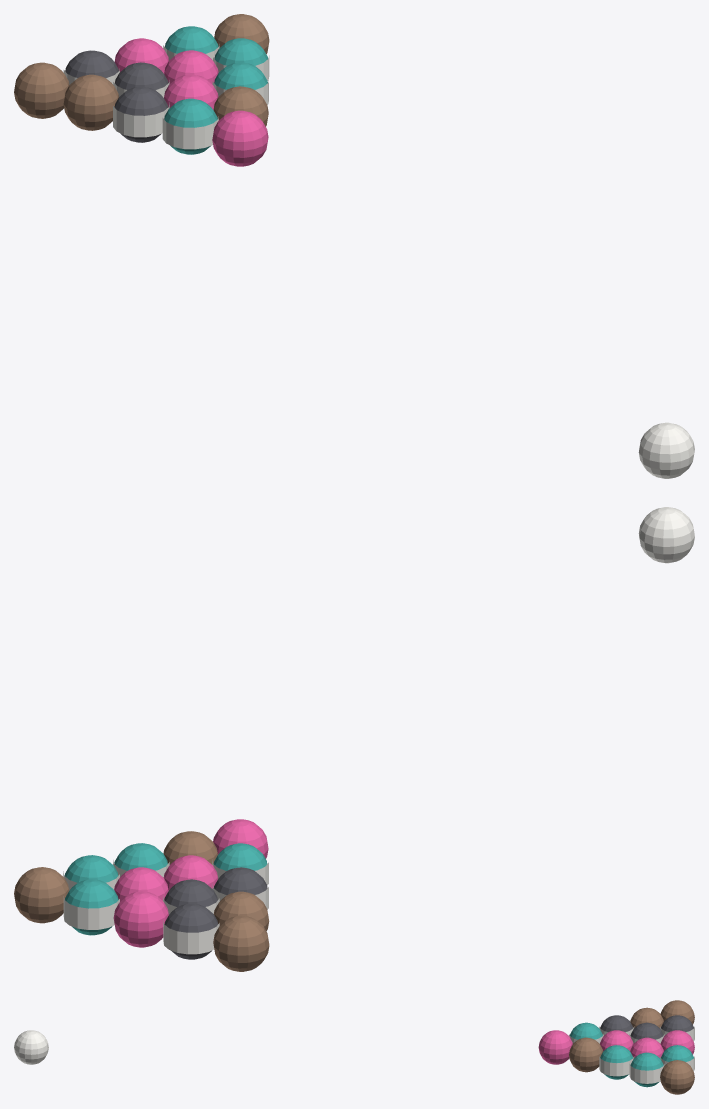
File: bowling-alley-and-pool-hall-pool-balls-racked-9d23c69a__33855.glb
3 renders of one model, top to bottom at view 1: azimuth 30°, elevation 25°; view 2: azimuth 150°, elevation 25°; view 3: azimuth 270°, elevation 25°, orthographic. The views are drawn at different scales.
Visible parts, largest first — view 1: pool-balls-racked; view 2: pool-balls-racked; view 3: pool-balls-racked.
Part boxes in pixels (bbox=[...]): pool-balls-racked: bbox=[14, 14, 694, 478]; pool-balls-racked: bbox=[14, 507, 694, 971]; pool-balls-racked: bbox=[14, 1000, 694, 1094].
Size of the model in its own units: 0.2892 by 0.0572 by 1.12.
